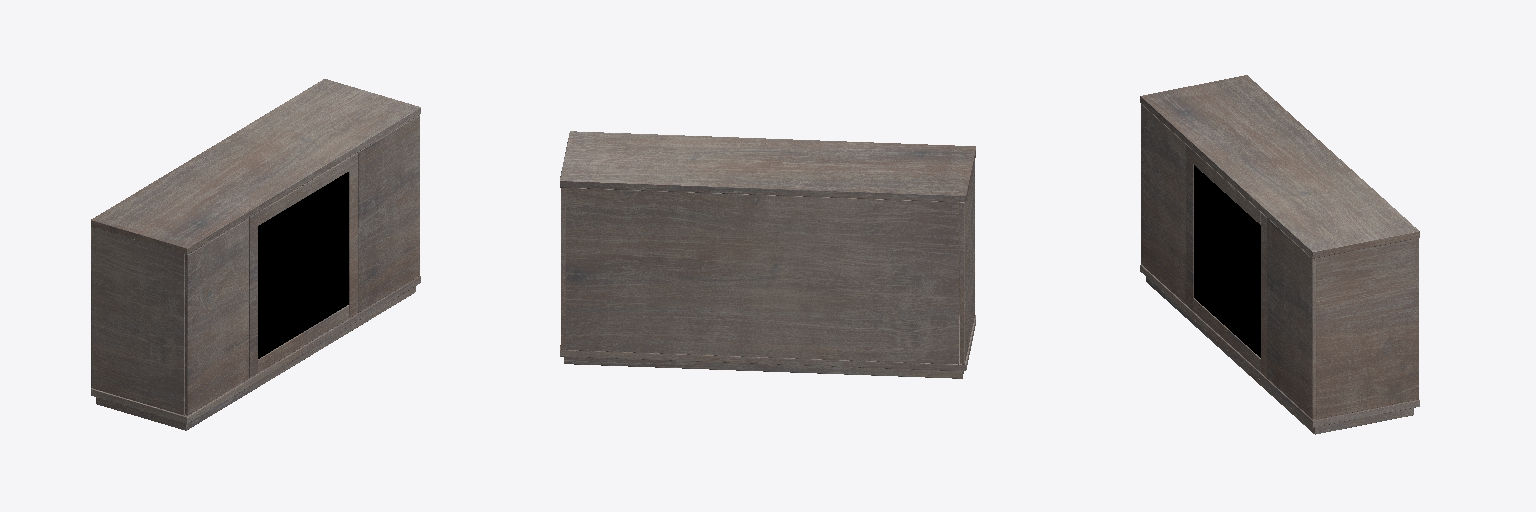
The picture shows the model from 3 angles: view 1: azimuth 30°, elevation 25°; view 2: azimuth 150°, elevation 25°; view 3: azimuth 270°, elevation 25°; orthographic projection.
Parts seen in each view (by area): view 1: Rectangle002, Rectangle079, Rectangle092, Rectangle073, glass1, glass2, Rectangle078, Rectangle048, Rectangle003, Rectangle004; view 2: Rectangle016, Rectangle002, Rectangle004, Rectangle003, Rectangle079, Rectangle049; view 3: Rectangle002, Rectangle049, Rectangle073, Rectangle092, glass2, glass1, Rectangle003, Rectangle078, Rectangle048, Rectangle004.
Boxes of the visible parts, <box> form: Rectangle002: <box>91,79,420,254</box>; Rectangle079: <box>91,227,184,415</box>; Rectangle092: <box>185,218,248,415</box>; Rectangle073: <box>357,115,419,312</box>; glass1: <box>303,172,348,331</box>; glass2: <box>258,199,302,358</box>; Rectangle078: <box>249,186,303,377</box>; Rectangle048: <box>303,153,357,344</box>; Rectangle003: <box>91,276,420,423</box>; Rectangle004: <box>96,286,415,430</box>; Rectangle016: <box>566,188,958,364</box>; Rectangle002: <box>560,131,975,202</box>; Rectangle004: <box>564,357,963,378</box>; Rectangle003: <box>560,315,975,370</box>; Rectangle079: <box>960,162,974,364</box>; Rectangle049: <box>561,188,565,349</box>; Rectangle002: <box>1140,75,1419,258</box>; Rectangle049: <box>1316,238,1418,419</box>; Rectangle073: <box>1267,218,1315,419</box>; Rectangle092: <box>1141,104,1186,304</box>; glass2: <box>1194,165,1227,327</box>; glass1: <box>1228,196,1260,357</box>; Rectangle003: <box>1140,265,1419,427</box>; Rectangle078: <box>1187,145,1227,341</box>; Rectangle048: <box>1227,182,1266,377</box>; Rectangle004: <box>1146,277,1413,434</box>.
Size of the model in its own units: 4.76 by 2.32 by 3.17.
Materials: 2 (1 with a texture image).